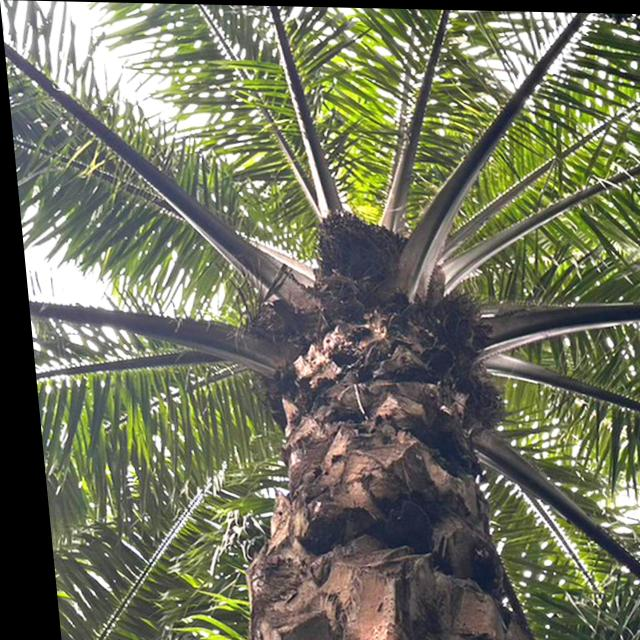almost: (303, 207, 407, 290), (457, 377, 503, 432)
